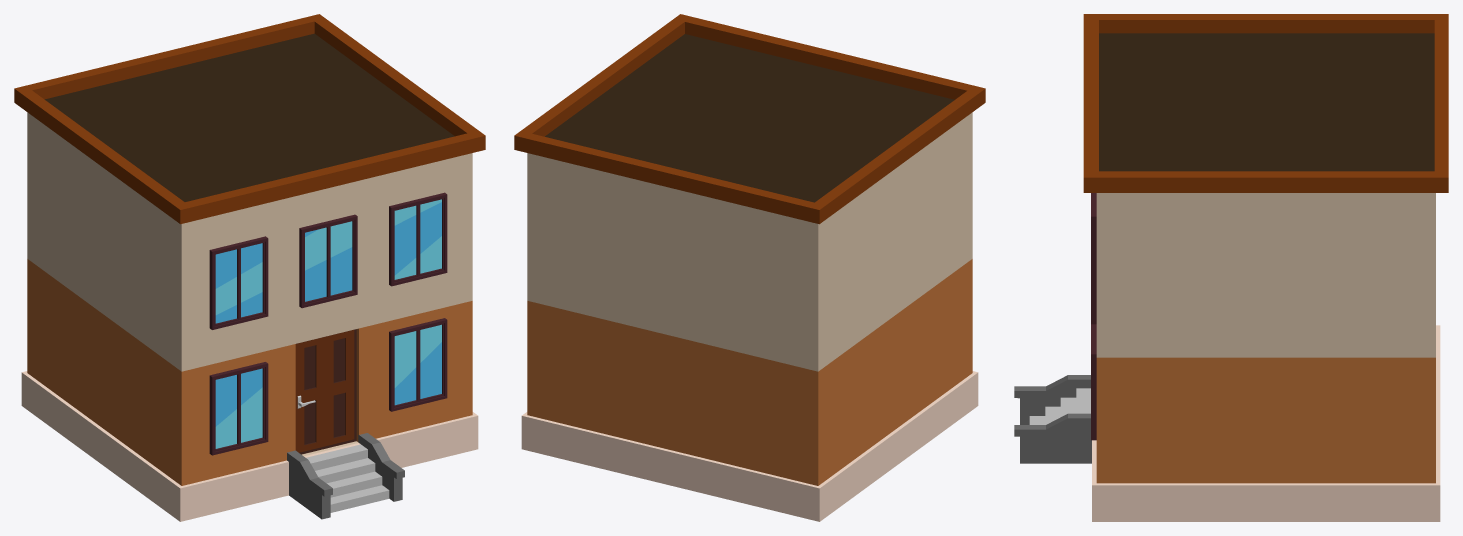
Rendered from Env_Motel_03.fbx.
3 views of the same model, side by side, from view 1: azimuth 30°, elevation 25°; view 2: azimuth 150°, elevation 25°; view 3: azimuth 270°, elevation 25° (orthographic). The views are drawn at different scales.
Visible parts, largest first — view 1: Env_Motel_03; view 2: Env_Motel_03; view 3: Env_Motel_03.
Boxes of the visible parts, x1=… form: Env_Motel_03: x1=14, y1=14, x2=485, y2=521; Env_Motel_03: x1=514, y1=14, x2=985, y2=521; Env_Motel_03: x1=1014, y1=14, x2=1448, y2=521.
Size of the model in its own units: 593 by 585 by 665.
